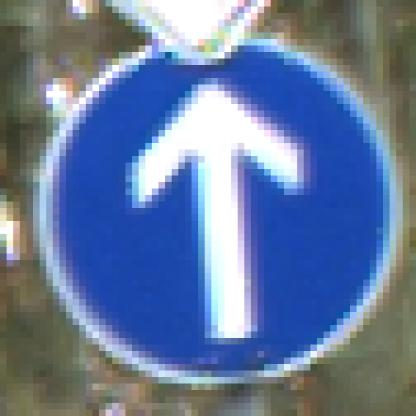AheadOnly: (34, 40, 384, 384)
